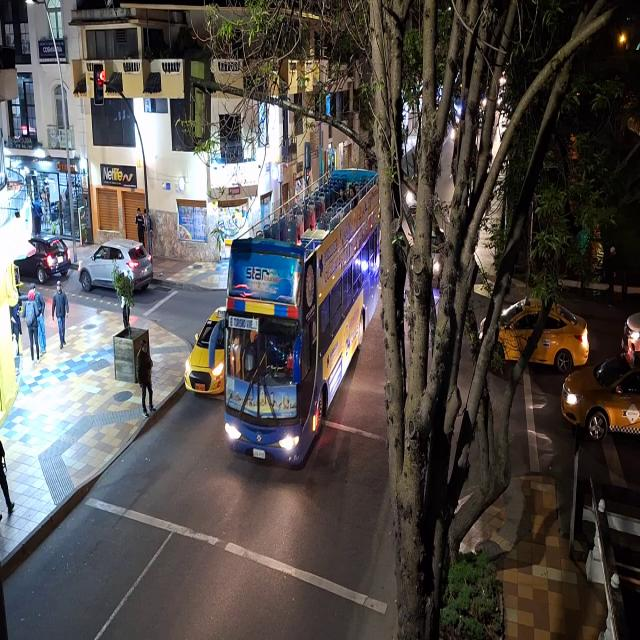BUS: (230, 239, 332, 473)
SED: (482, 301, 591, 370), (559, 356, 638, 433), (188, 309, 226, 396)
SUV: (80, 240, 154, 293)
